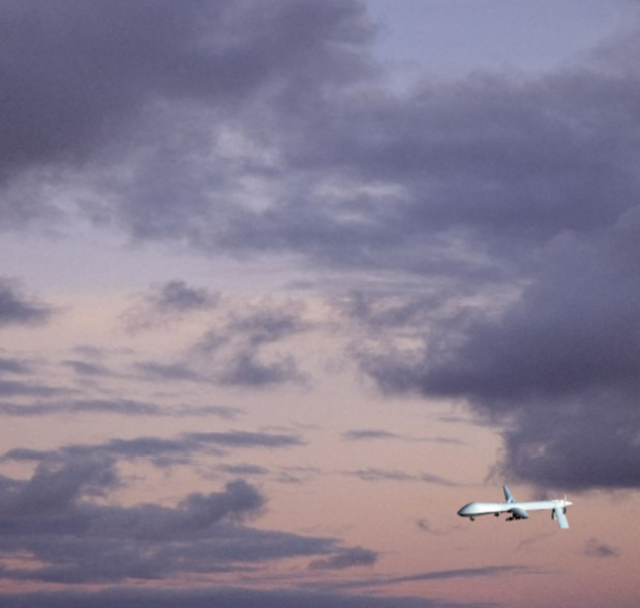military drone: (456, 485, 573, 529)
